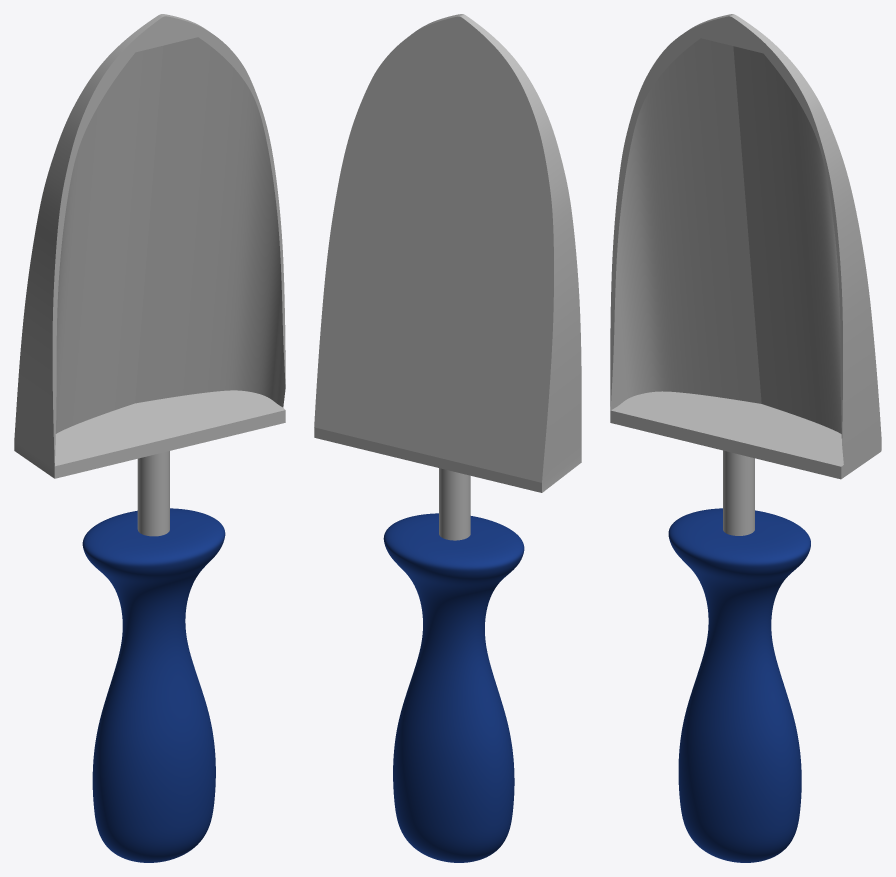
3 renders of one model, left to right at view 1: azimuth 30°, elevation 25°; view 2: azimuth 150°, elevation 25°; view 3: azimuth 330°, elevation 25°, orthographic.
Parts seen in each view (by area): view 1: SHOVEL, HANDLE; view 2: SHOVEL, HANDLE; view 3: SHOVEL, HANDLE.
Boxes of the visible parts, box(x1,y1,x2,y2) form: SHOVEL: box(14, 14, 285, 536); HANDLE: box(82, 508, 225, 862); SHOVEL: box(314, 14, 581, 540); HANDLE: box(383, 513, 524, 862); SHOVEL: box(610, 14, 881, 535); HANDLE: box(668, 508, 810, 862).
Size of the model in its own units: 76.69 by 267 by 34.44.
